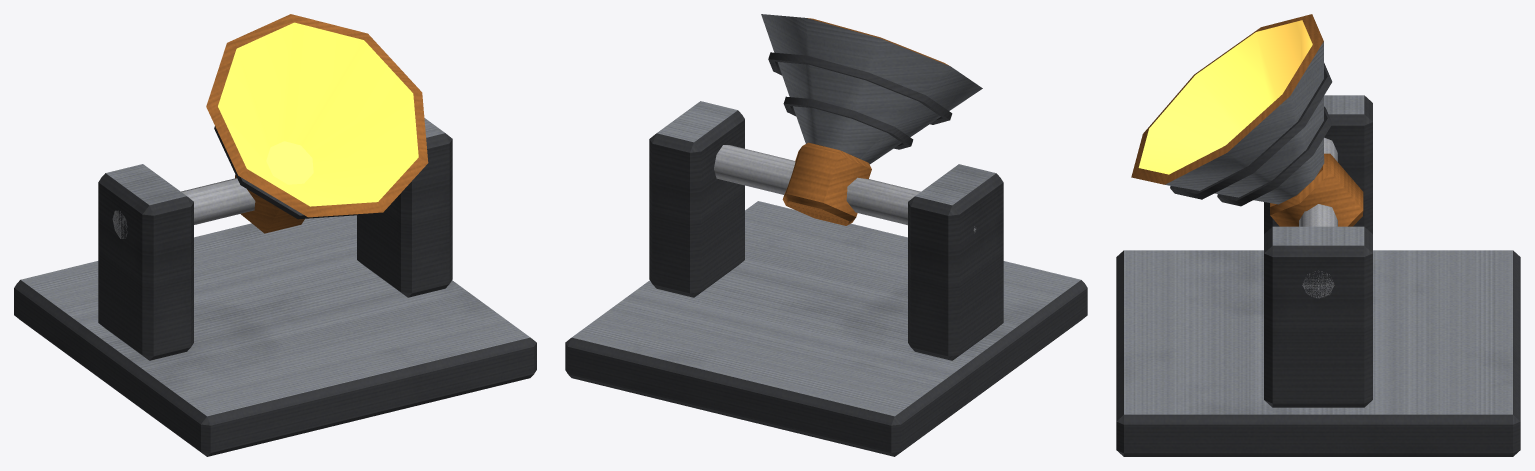
Rendered from R4X_DeployableAmplifier_LOD1.glb.
The picture shows the model from 3 angles, left to right: view 1: azimuth 30°, elevation 25°; view 2: azimuth 150°, elevation 25°; view 3: azimuth 270°, elevation 25°; orthographic projection. The views are drawn at different scales.
Parts seen in each view (by area): view 1: R4X_DeployableAmplifier_LOD1; view 2: R4X_DeployableAmplifier_LOD1; view 3: R4X_DeployableAmplifier_LOD1.
Part boxes in pixels (x1,y1,x2,y2): R4X_DeployableAmplifier_LOD1: (14, 14, 536, 456); R4X_DeployableAmplifier_LOD1: (565, 14, 1087, 456); R4X_DeployableAmplifier_LOD1: (1116, 14, 1520, 456).
Bounding box in the file's own units: 0.52 × 0.4865 × 0.52.
5 materials, 4 textured.
